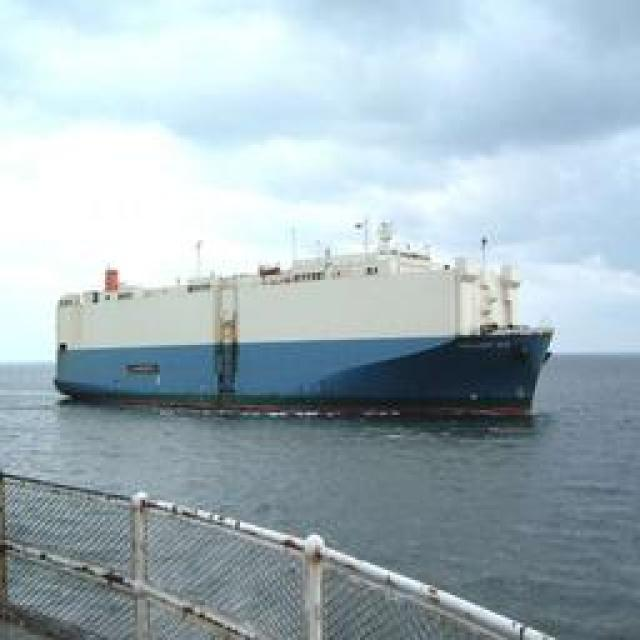CIV_Ship: (51, 250, 554, 410)
